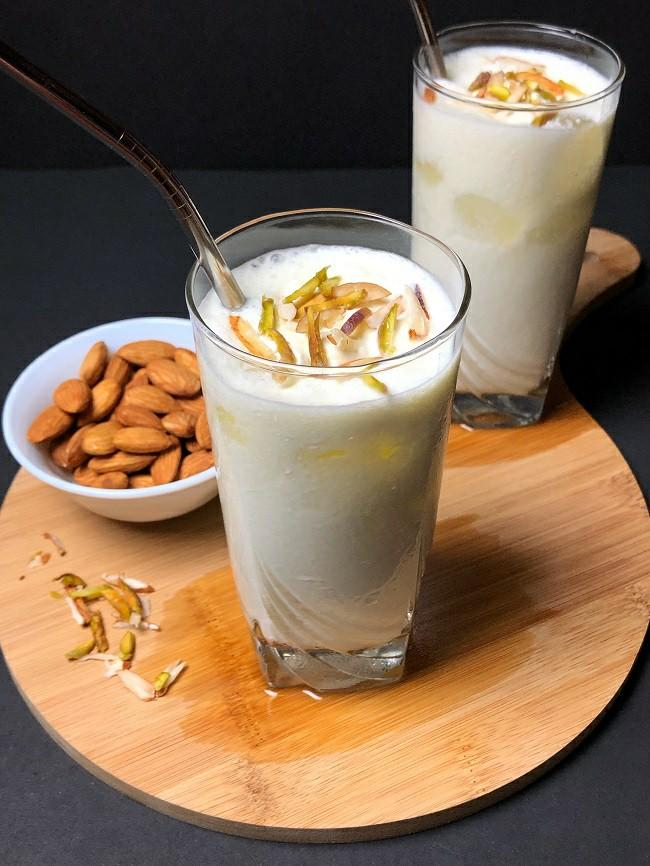Lassi: (195, 244, 459, 647), (413, 47, 617, 396)
